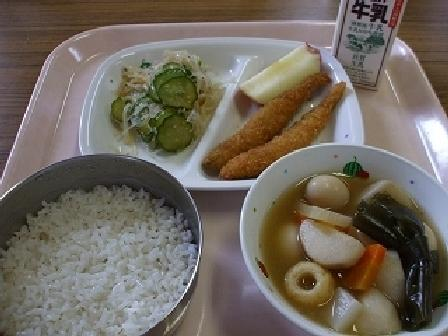Apple: (238, 31, 331, 102)
Milk: (333, 0, 410, 84)
Rice: (0, 154, 195, 329)
salad with sauce: (116, 51, 212, 145)
seafood: (200, 89, 348, 179)
vegetable soup: (254, 151, 447, 327)
